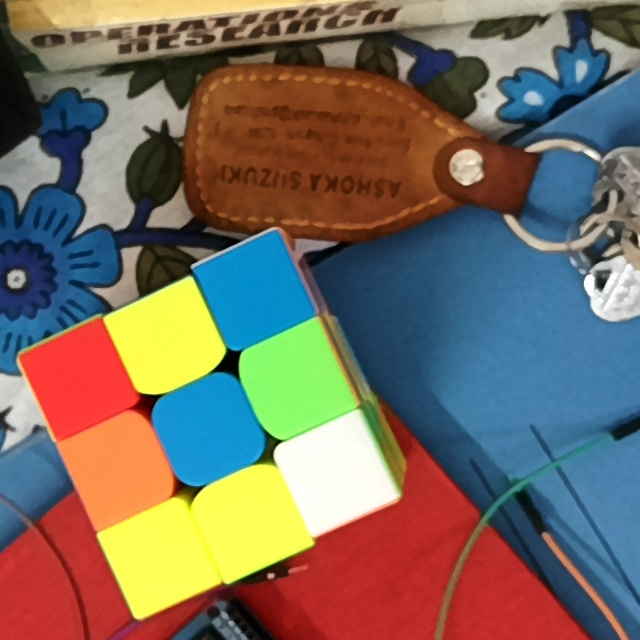tile: (220, 257, 293, 327), (259, 347, 330, 418), (169, 397, 243, 464), (128, 308, 201, 373), (214, 485, 284, 552), (302, 439, 369, 508), (85, 434, 151, 503), (44, 346, 113, 411), (127, 523, 193, 589)
